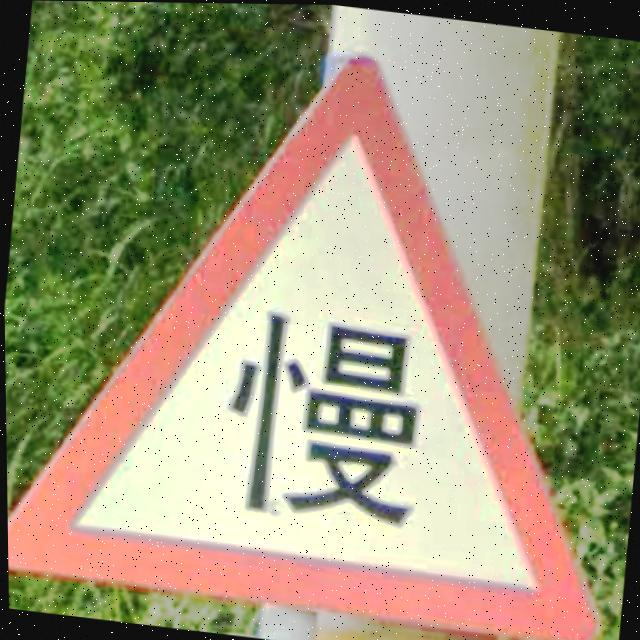slow: (6, 54, 600, 640)
